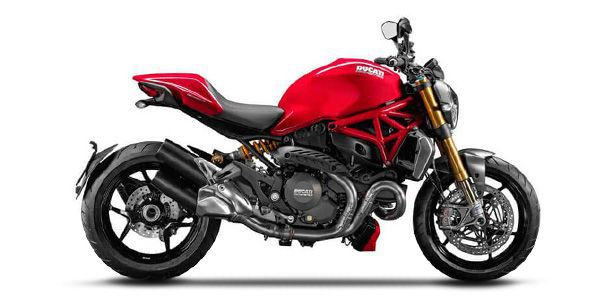motorcycle: (79, 44, 538, 285)
